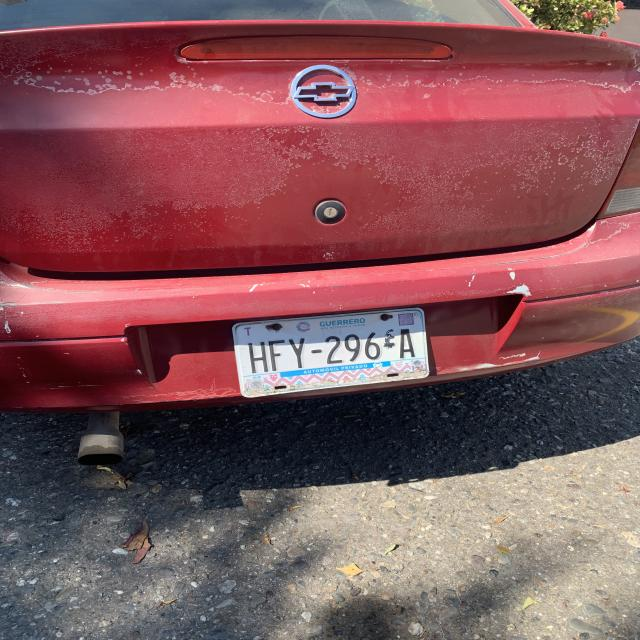placa: (237, 326, 425, 368)
